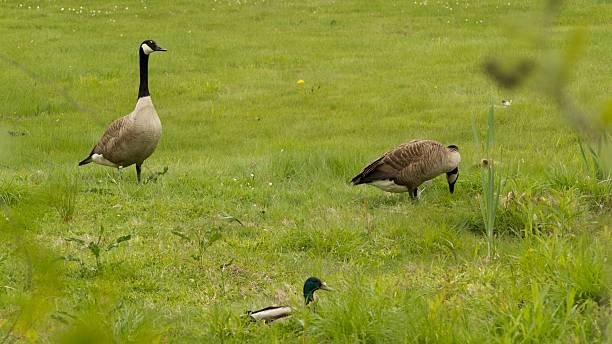goose: (74, 38, 169, 190), (345, 139, 464, 211), (242, 274, 334, 333)
